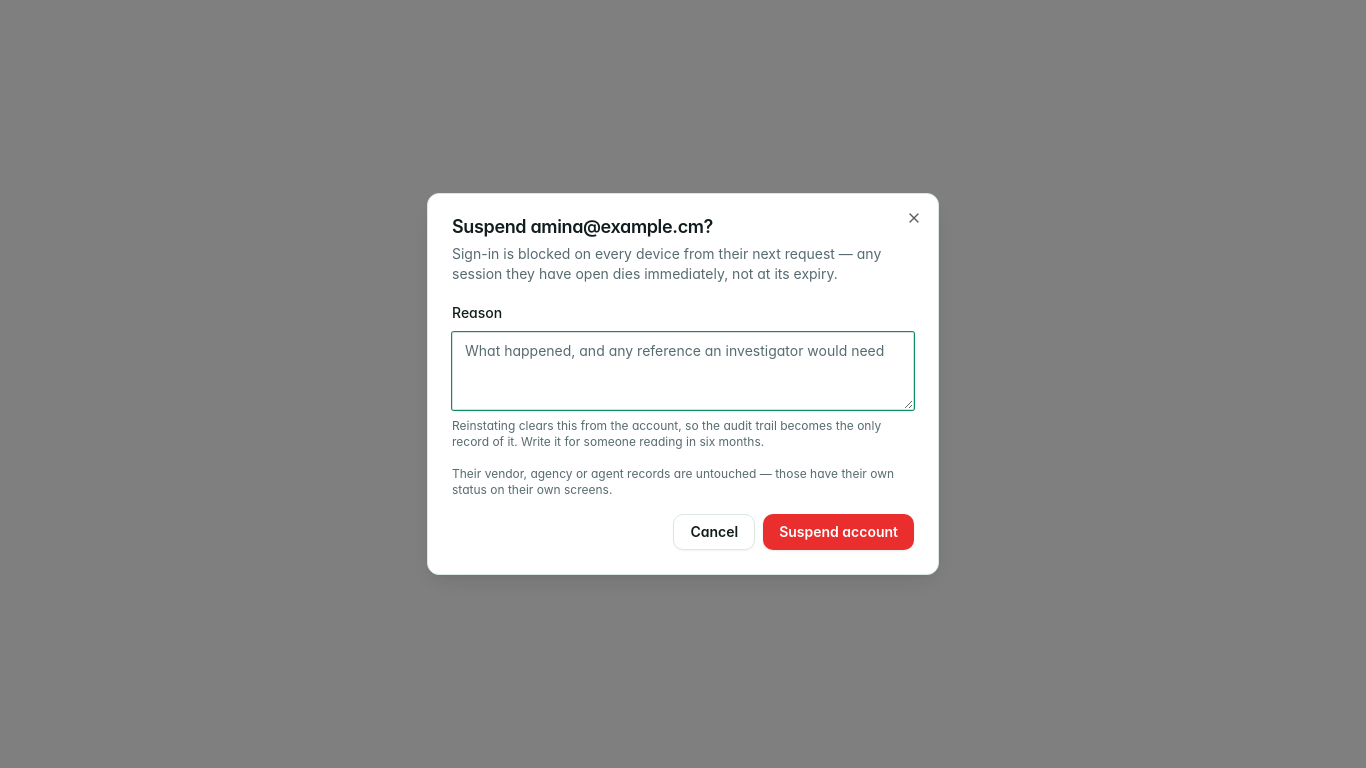
it: suspending › keeps the dialog open on a dependency failure
Type "Fraudulent chargebacks" into the text box labelled "Reason" at (683, 371), box [452, 332, 914, 410]
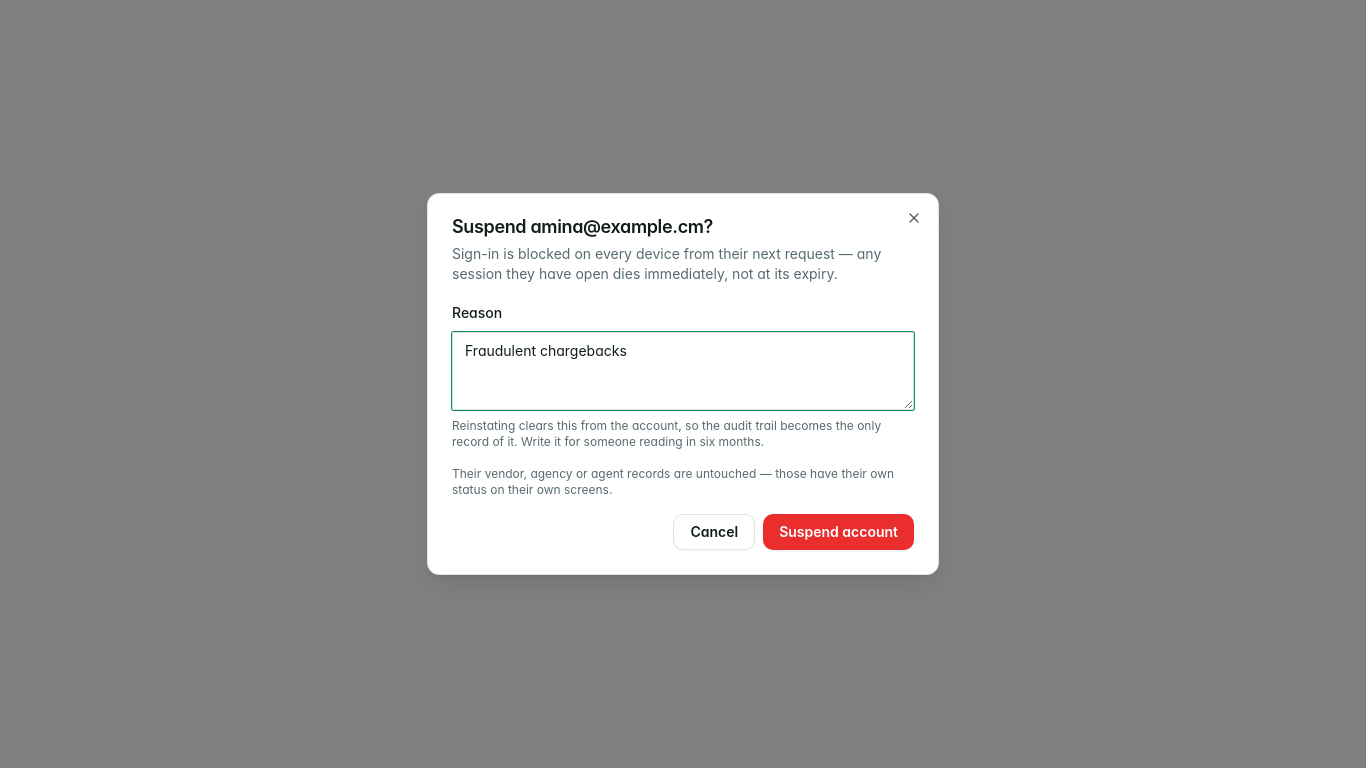
Click the button "Suspend account" at (839, 532), box [763, 514, 914, 550]
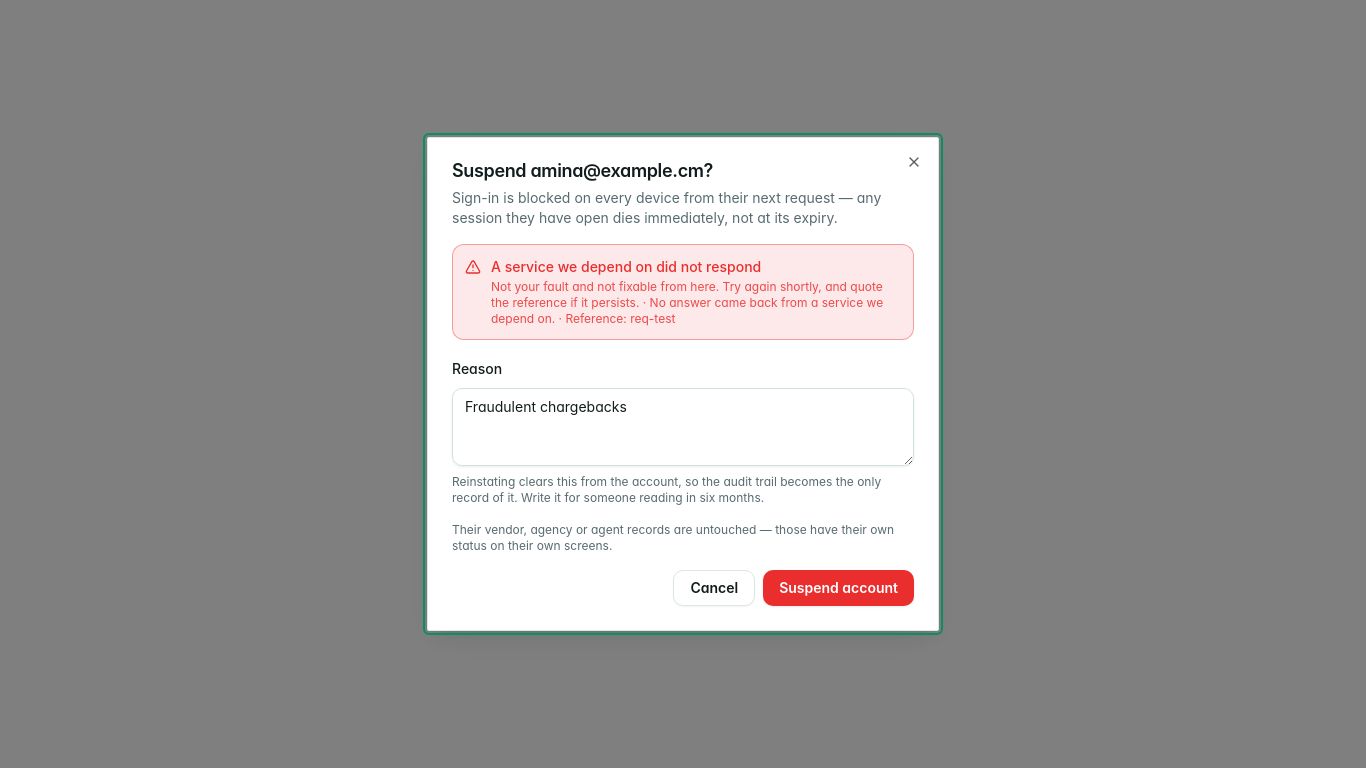
Expected: the message shows "did not respond", [491, 258, 761, 275]
